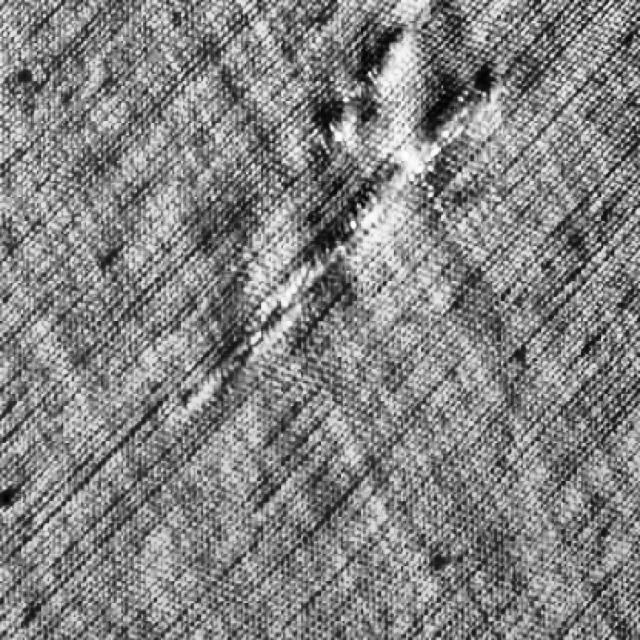thread_error: (163, 68, 526, 422), (289, 14, 421, 168)
